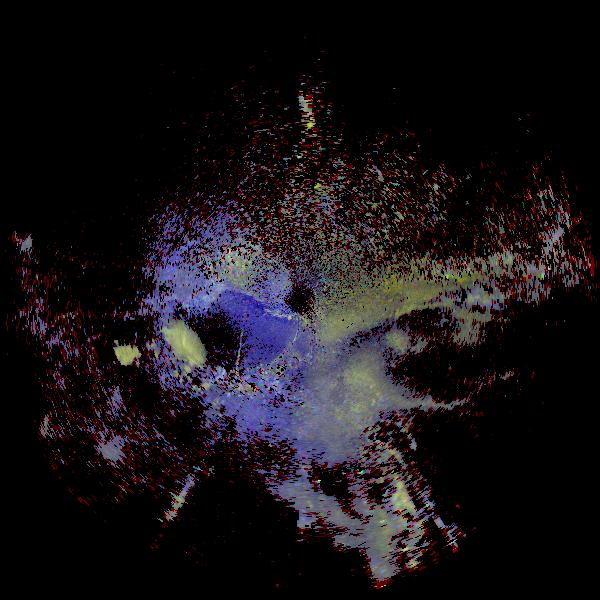roost: (113, 306, 227, 420), (73, 327, 157, 411), (7, 231, 43, 267)
